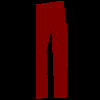abbigliamento_uomo: (35, 0, 68, 99)
